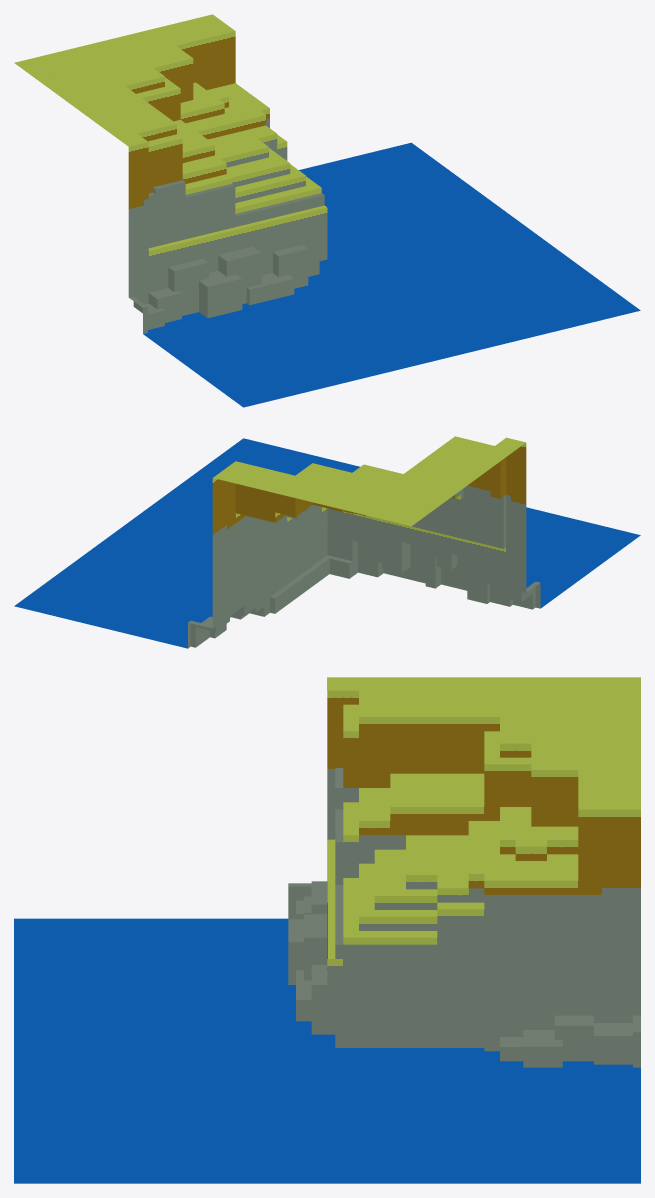
The model's file is MWWW(2).glb.
3 renders of one model, top to bottom at view 1: azimuth 30°, elevation 25°; view 2: azimuth 150°, elevation 25°; view 3: azimuth 270°, elevation 25°, orthographic. The views are drawn at different scales.
Parts seen in each view (by area): view 1: model_0.005; view 2: model_0.005; view 3: model_0.005.
Part boxes in pixels (x1,y1,x2,y2): model_0.005: (14,14,640,407); model_0.005: (14,436,640,648); model_0.005: (14,677,640,1183).
Size of the model in its own units: 80 by 34 by 80.
Materials: 1 (1 with a texture image).
